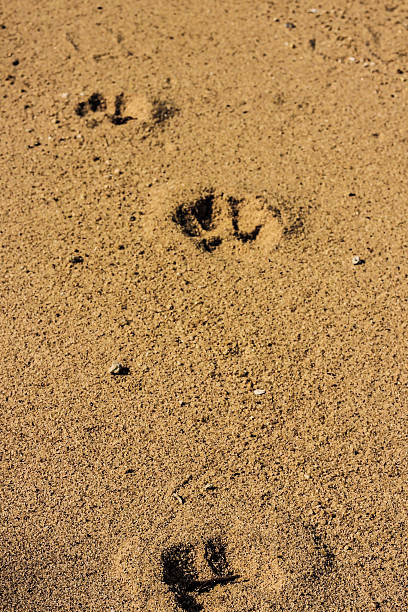animal_foot_print: (112, 500, 287, 611), (138, 185, 307, 255), (172, 190, 302, 251), (161, 537, 239, 611), (75, 92, 177, 128)
